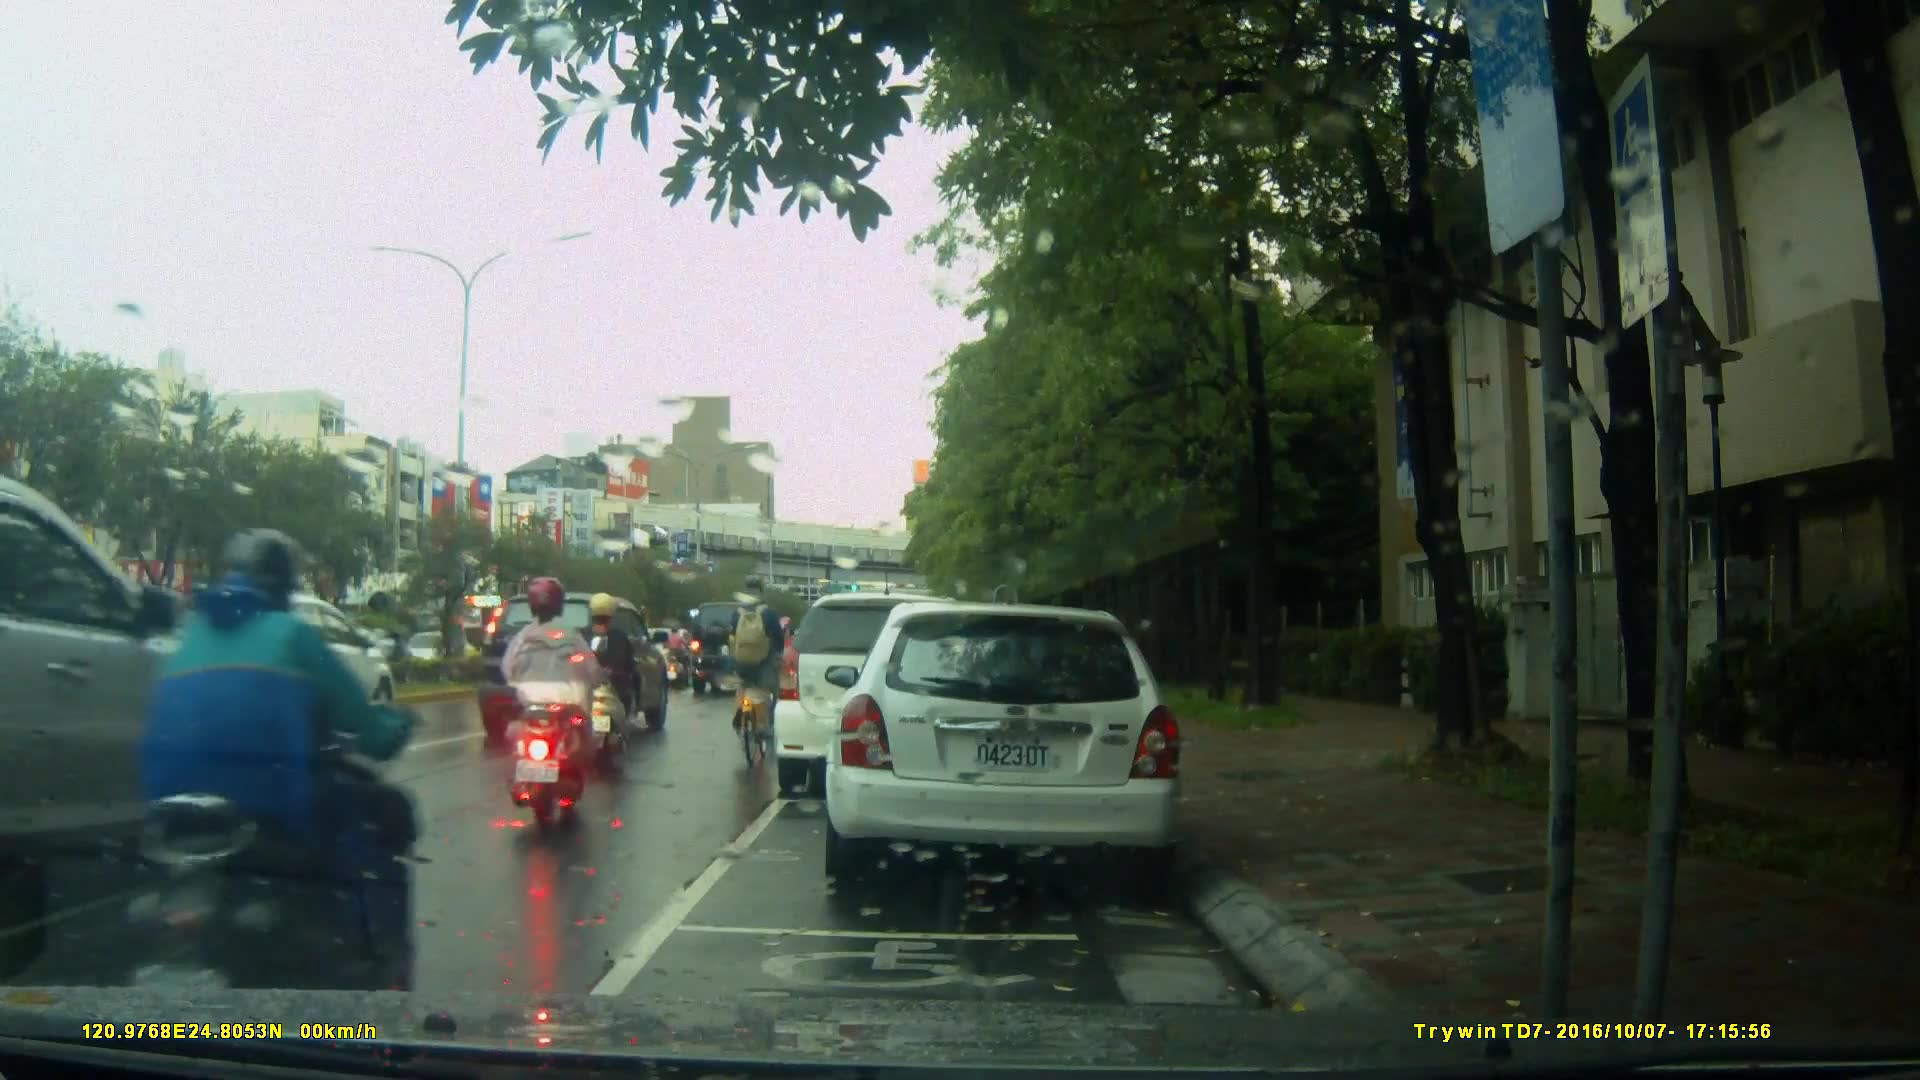rider: (114, 529, 405, 1064), (500, 577, 612, 826), (725, 580, 786, 770), (575, 590, 639, 765), (662, 619, 693, 690)
vehicle: (1, 476, 333, 990), (822, 604, 1188, 883), (774, 595, 995, 802), (470, 591, 672, 752)
